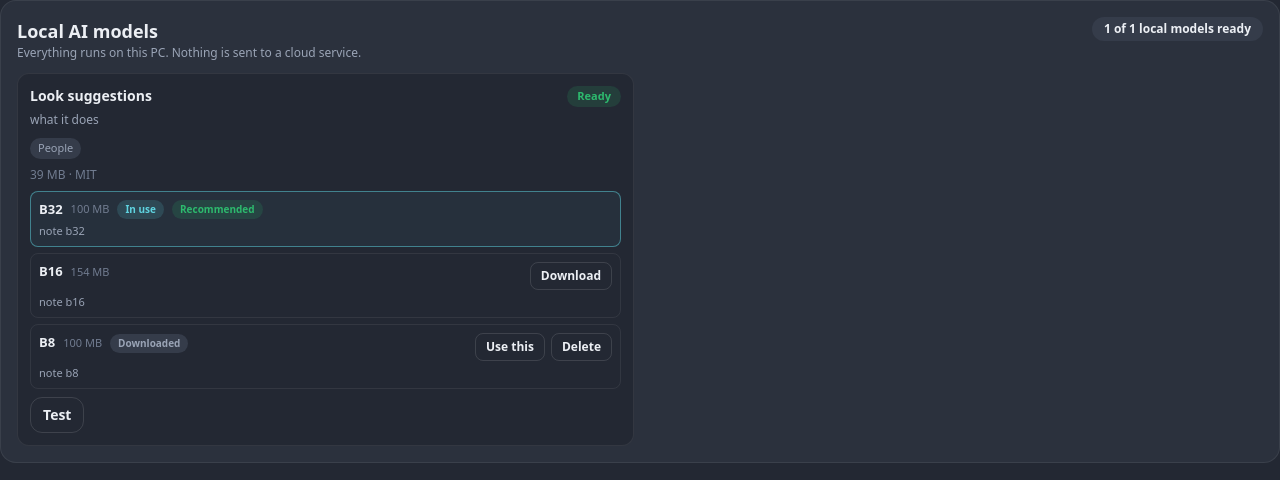
Test case: model sizes › shows why a switch or delete was refused
Step 1. Click the button "Use this" → (510, 347), box [475,333,545,361]
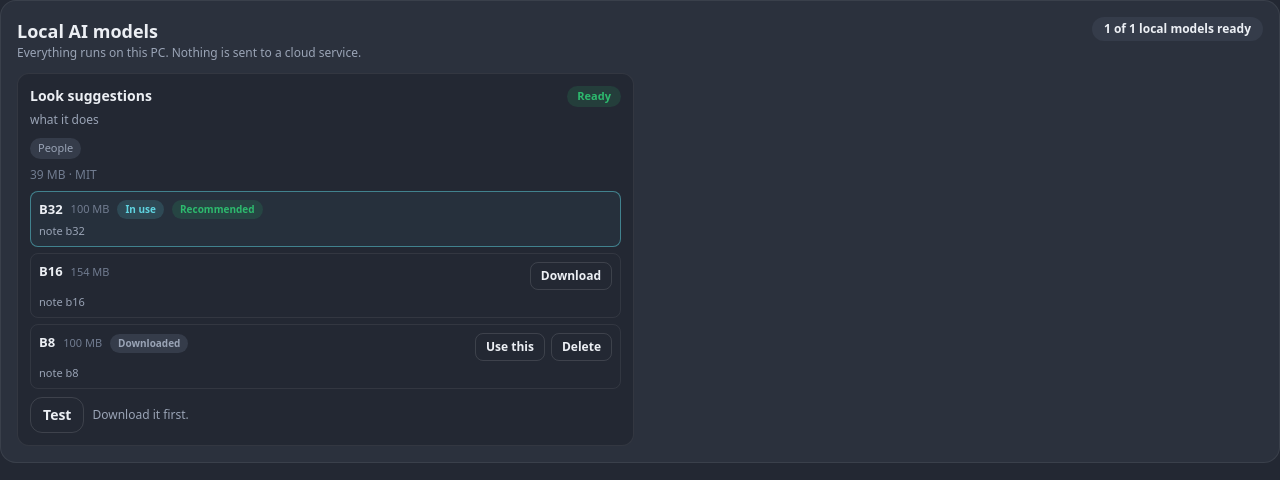
Expected: the text "Download it first." is shown, [92,407,189,423]
